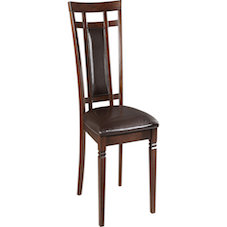chair: (34, 1, 184, 216)
